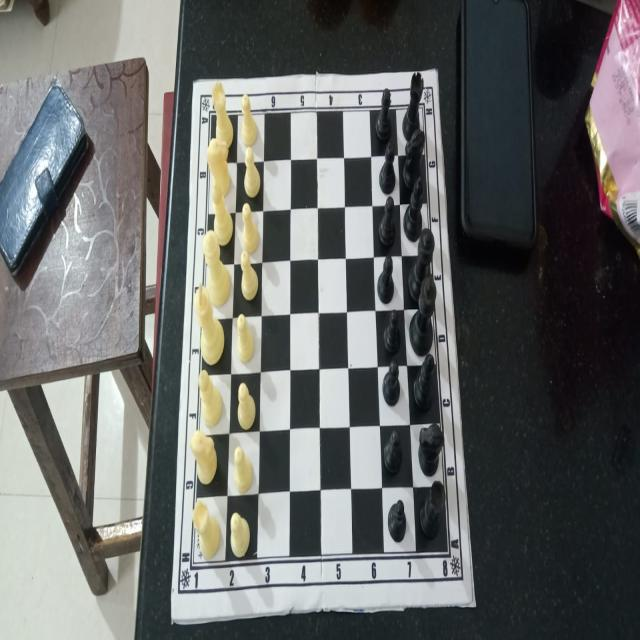corners: (467, 592, 480, 620), (187, 74, 202, 98), (429, 59, 441, 88), (167, 607, 180, 631)
